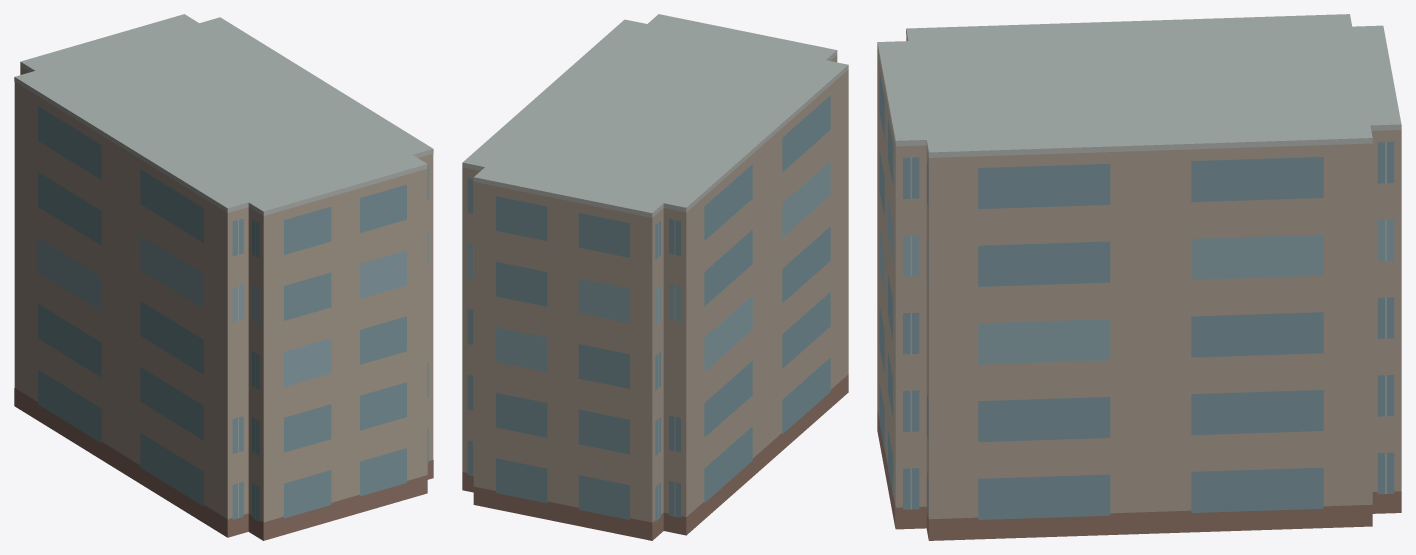
The model's file is survey-upis-32621949.glb.
3 renders of one model, left to right at view 1: azimuth 30°, elevation 25°; view 2: azimuth 150°, elevation 25°; view 3: azimuth 270°, elevation 25°, orthographic. The views are drawn at different scales.
Visible parts, largest first — view 1: survey-upis-32621949.tmp; view 2: survey-upis-32621949.tmp; view 3: survey-upis-32621949.tmp.
Part boxes in pixels (x1,y1,x2,y2): survey-upis-32621949.tmp: (14,14,433,540); survey-upis-32621949.tmp: (462,14,848,540); survey-upis-32621949.tmp: (877,14,1401,540).
Size of the model in its own units: 13.19 by 17.24 by 21.09.
